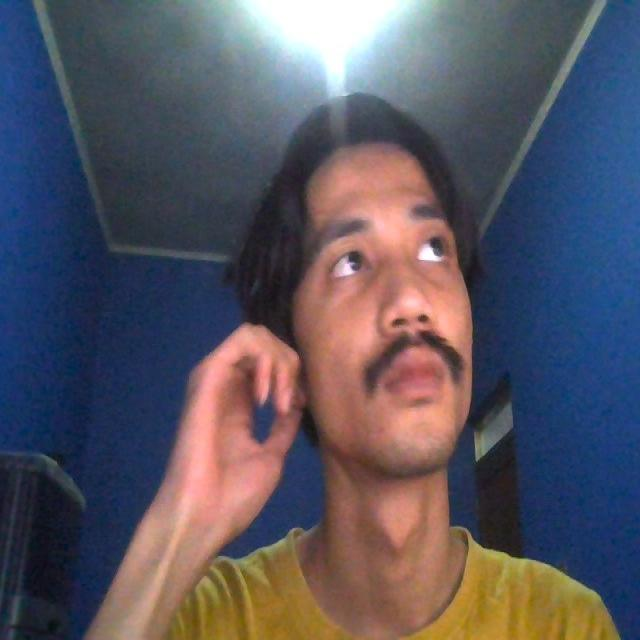movement: (140, 108, 511, 520)
